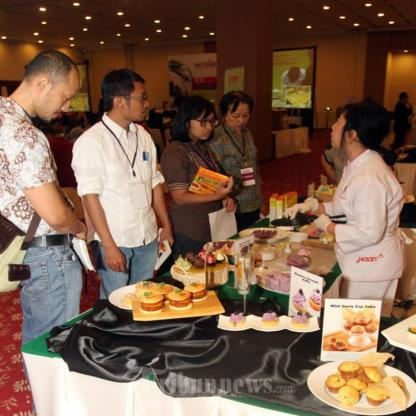face: (47, 69, 81, 121), (122, 76, 148, 123), (330, 104, 357, 148), (225, 97, 251, 132), (191, 105, 214, 140)
